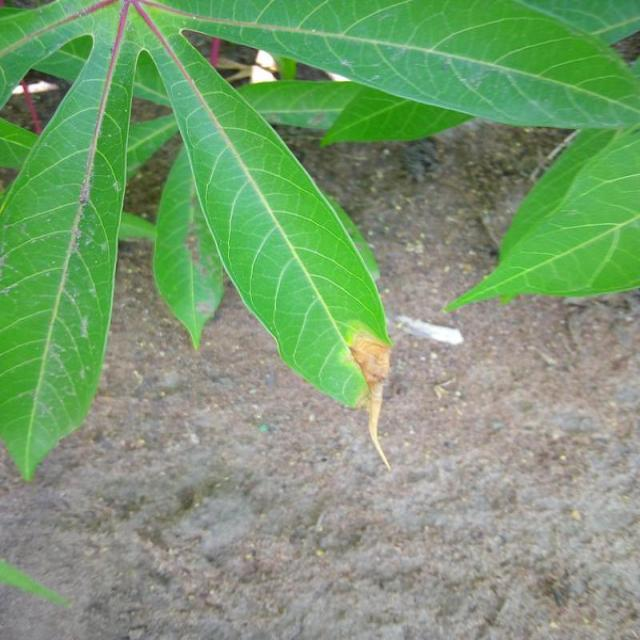cassava leaf: (1, 0, 638, 481), (130, 12, 393, 467), (0, 1, 140, 481), (442, 121, 640, 312), (151, 140, 225, 350)
